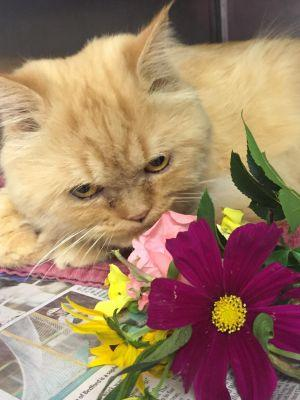persian: (1, 1, 225, 263)
